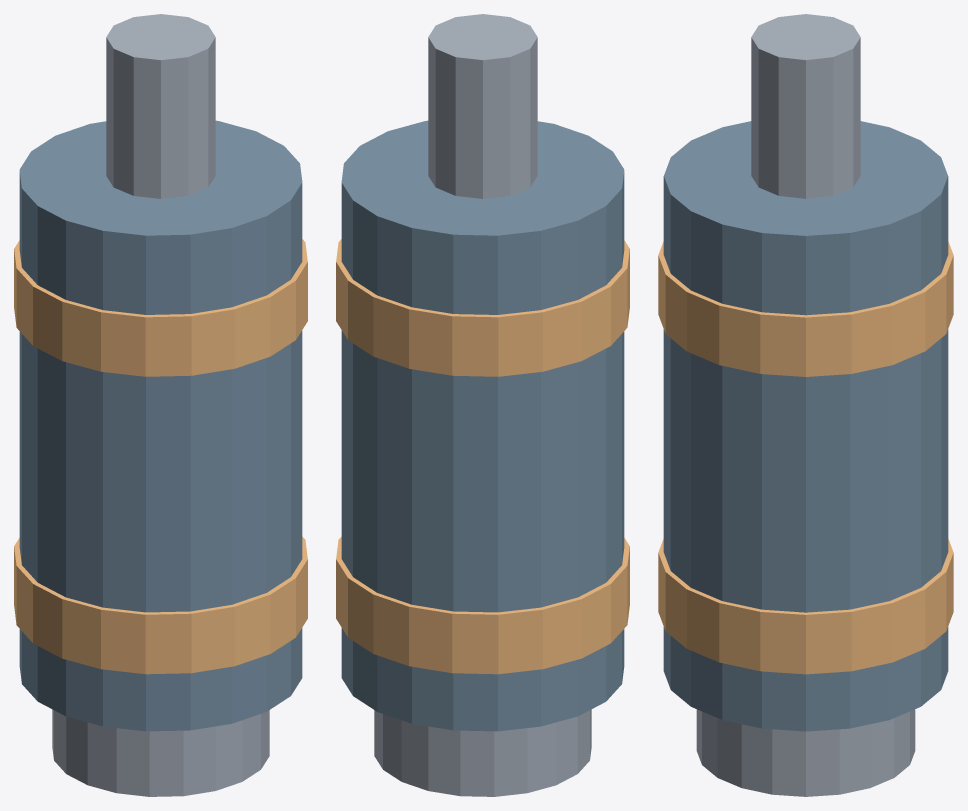
The model's file is pump.fbx.
3 renders of one model, left to right at view 1: azimuth 30°, elevation 25°; view 2: azimuth 150°, elevation 25°; view 3: azimuth 270°, elevation 25°, orthographic.
Parts seen in each view (by area): view 1: body, neck, band_top, band_bot, intake; view 2: body, neck, band_top, band_bot, intake; view 3: body, neck, band_top, band_bot, intake.
Boxes of the visible parts, bbox=[...] form: body: bbox=[19, 120, 302, 731]; neck: bbox=[106, 14, 215, 198]; band_top: bbox=[14, 239, 307, 376]; band_bot: bbox=[14, 536, 307, 674]; intake: bbox=[52, 709, 269, 796]; body: bbox=[341, 120, 624, 731]; neck: bbox=[428, 14, 537, 198]; band_top: bbox=[336, 239, 629, 376]; band_bot: bbox=[336, 536, 629, 674]; intake: bbox=[374, 709, 591, 796]; body: bbox=[663, 121, 948, 731]; neck: bbox=[751, 14, 860, 198]; band_top: bbox=[658, 241, 953, 376]; band_bot: bbox=[658, 539, 953, 674]; intake: bbox=[696, 709, 915, 796].
Size of the model in its own units: 0.27 by 0.72 by 0.27.
